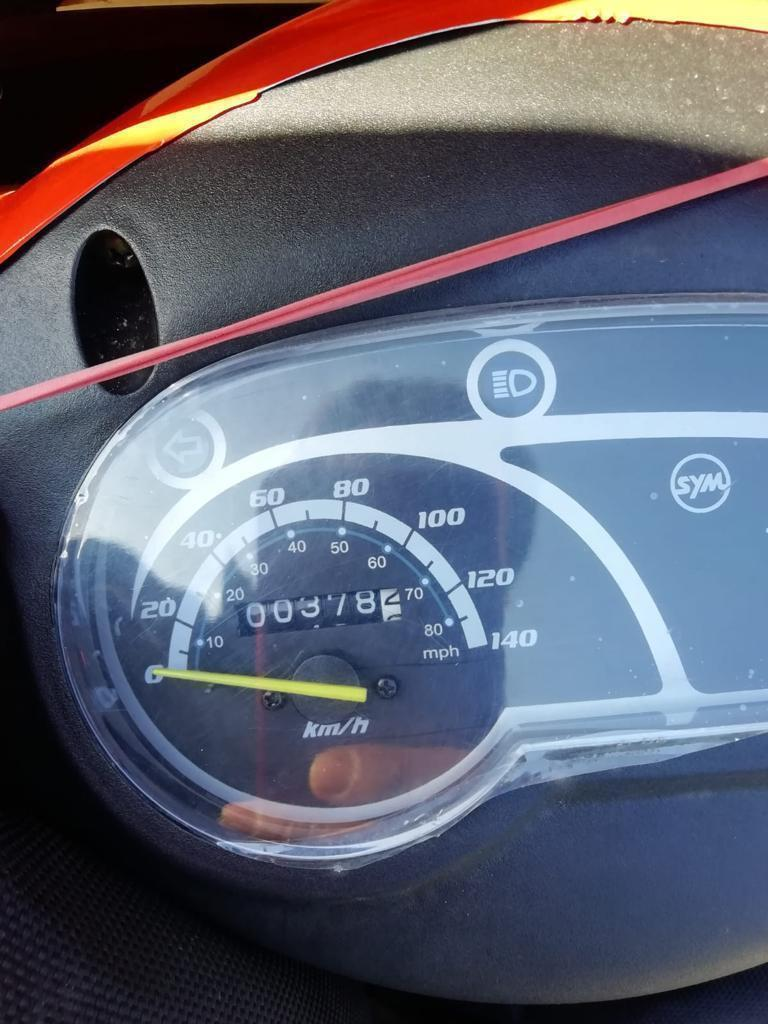0: (245, 601, 266, 629), (272, 597, 293, 624), (234, 586, 245, 601)
2: (381, 586, 402, 605)
3: (299, 592, 321, 618)
7: (327, 591, 347, 617)
8: (354, 588, 376, 614)
odometer: (234, 585, 404, 640)
